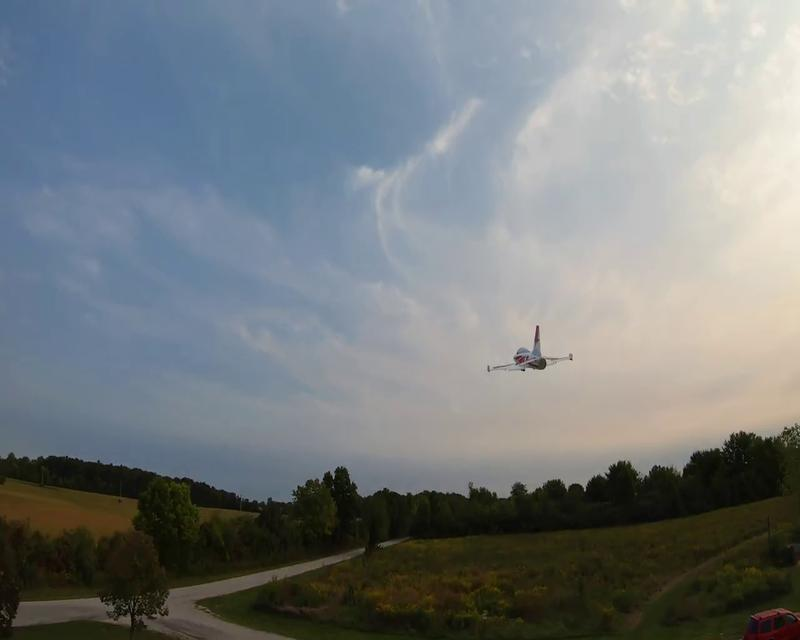UAV: (485, 323, 573, 373)
